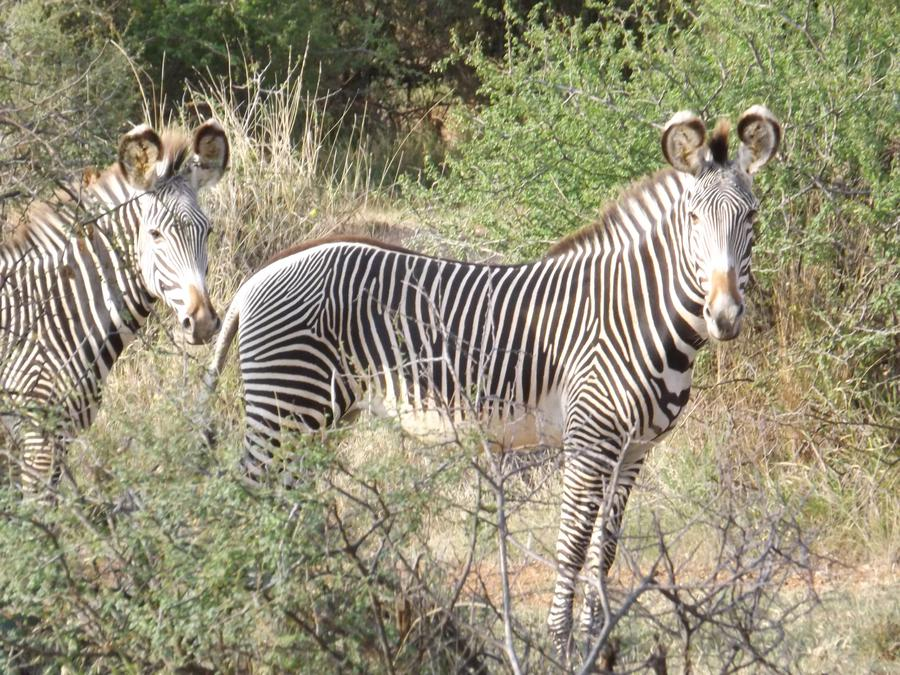zebra_grevys: (229, 220, 642, 457)
